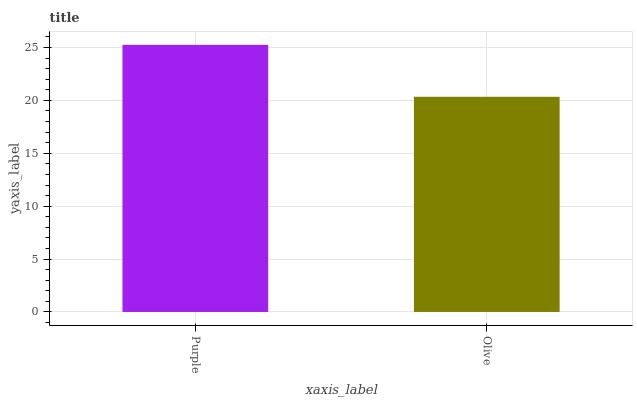axis: (42, 29, 57, 324)
label: (188, 332, 206, 382), (478, 334, 499, 371)
rectangle: (120, 44, 269, 314), (414, 96, 559, 312)
title: (43, 3, 91, 29)
